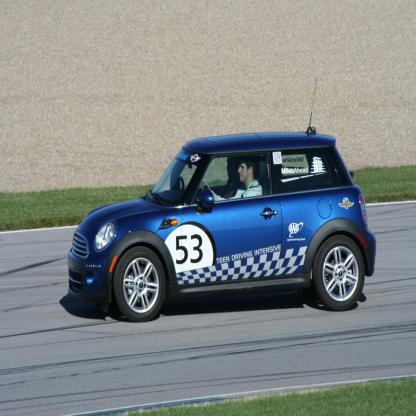Car: (68, 78, 376, 322)
